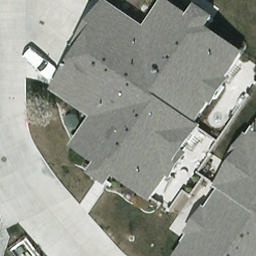car: (22, 46, 59, 82)
